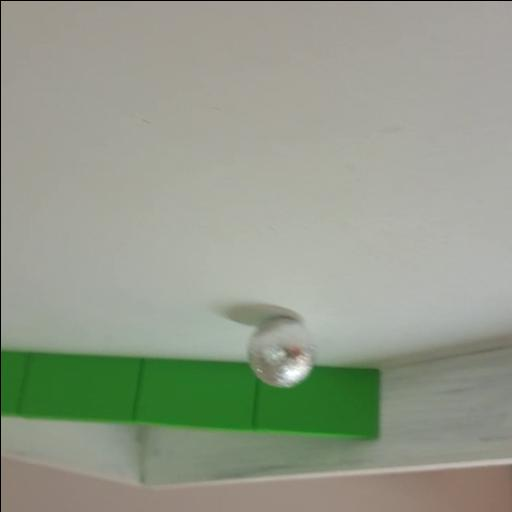alive: (245, 316, 315, 388)
